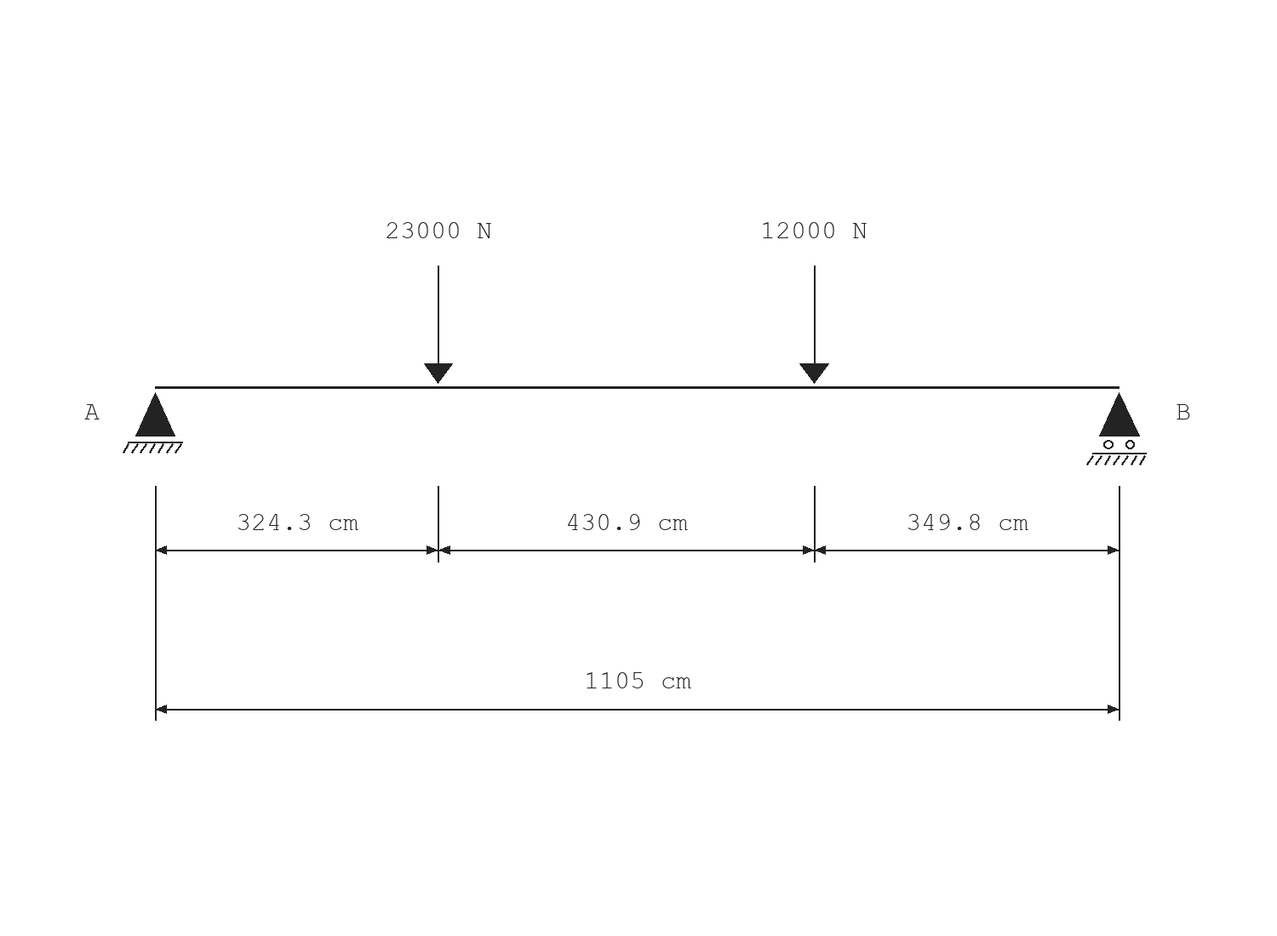pin_support: (123, 392, 183, 454)
point_load: (799, 265, 829, 384), (424, 265, 453, 384)
roller_support: (1086, 392, 1147, 465)
